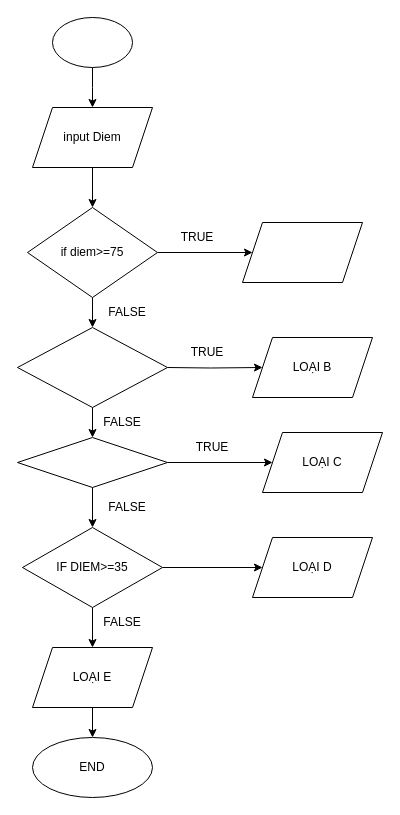
This 400x815 diagram has some shape labels left out. The centre of each missing label's shape, as x and y in pixels:
Begin: point 92,42
IF DIEM=> 60: point 92,367
IF DIEM>=45: point 92,462
LOẠI A: point 302,252
